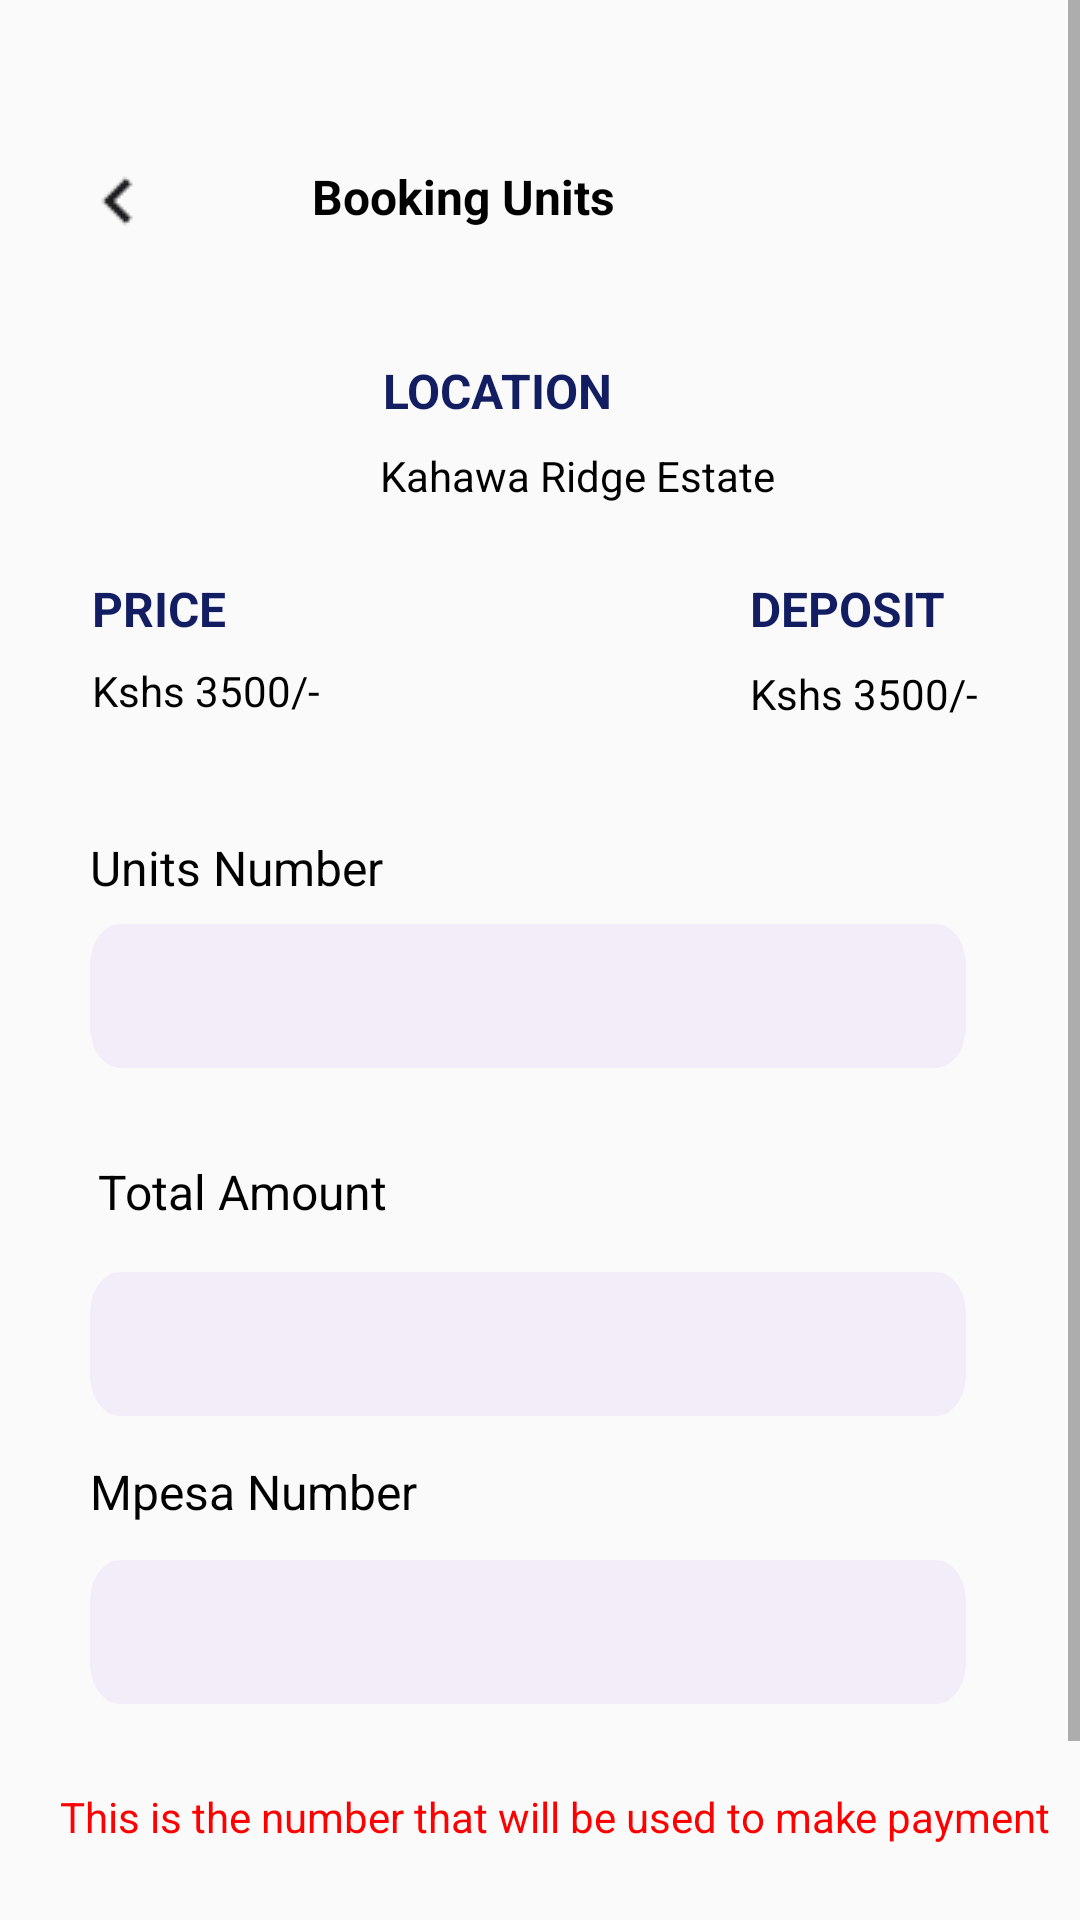

Icons on this 1080*1920 Android screen, each with the point to tap as [x,y]:
back: [117,201]
